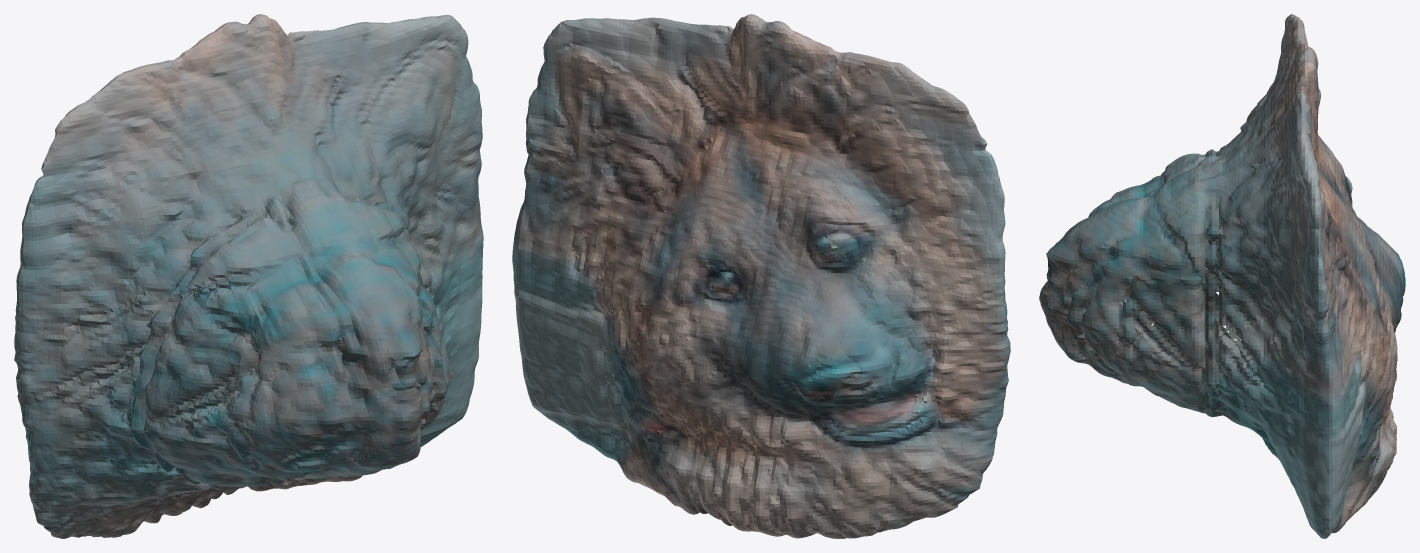
File: 3d-ANM-2026-003-1784354613614.glb
3 renders of one model, left to right at view 1: azimuth 30°, elevation 25°; view 2: azimuth 150°, elevation 25°; view 3: azimuth 270°, elevation 25°, orthographic. The views are drawn at different scales.
Visible parts, largest first — view 1: world; view 2: world; view 3: world.
Part boxes in pixels (x1=…): world: x1=14, y1=14, x2=483, y2=538; world: x1=512, y1=14, x2=1010, y2=538; world: x1=1039, y1=14, x2=1405, y2=538.
Size of the model in its own units: 0.9551 by 0.9437 by 0.7281.
